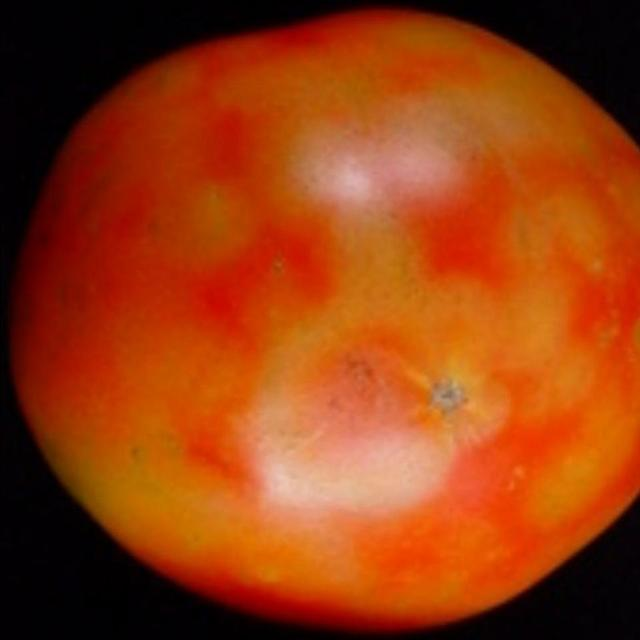Spotted wilt Virus Fruit: (220, 59, 633, 141)
